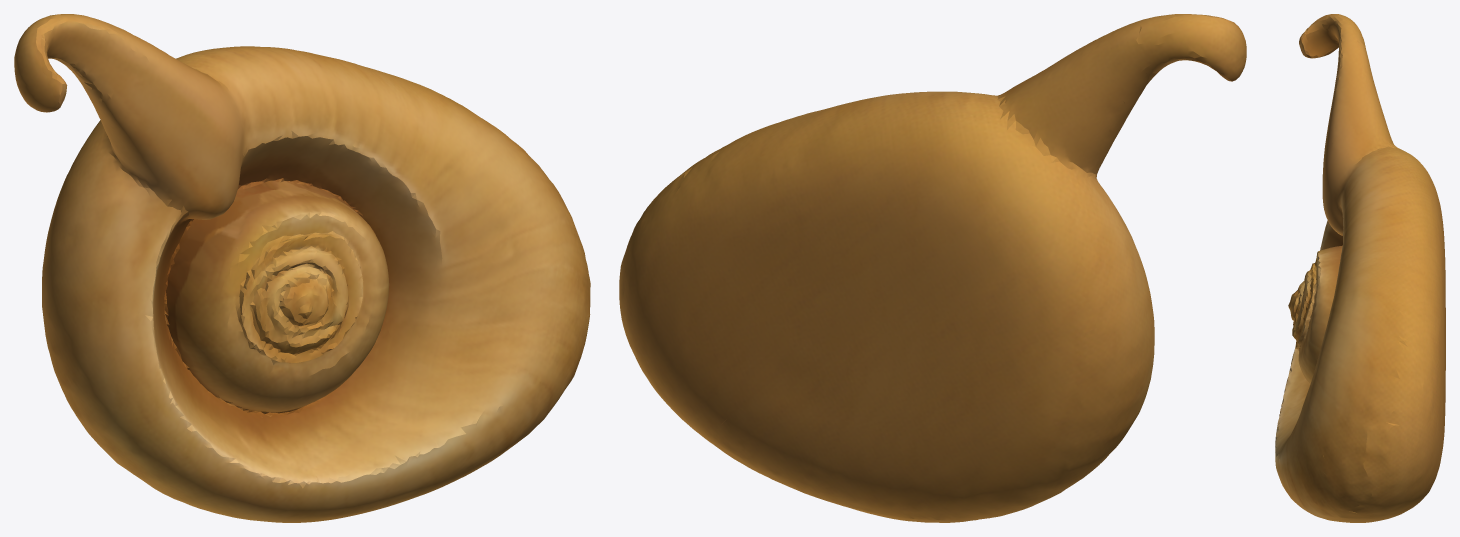
The picture shows the model from 3 angles, left to right: view 1: azimuth 30°, elevation 25°; view 2: azimuth 150°, elevation 25°; view 3: azimuth 270°, elevation 25°; orthographic projection. The views are drawn at different scales.
Visible parts, largest first — view 1: SnailShellHorn; view 2: SnailShellHorn; view 3: SnailShellHorn.
Boxes of the visible parts, <box> form: SnailShellHorn: <box>14,14,590,522</box>; SnailShellHorn: <box>619,14,1246,522</box>; SnailShellHorn: <box>1275,14,1445,522</box>.
Bounding box in the file's own units: 1.81 × 1.63 × 0.669.
1 material, 1 textured.
